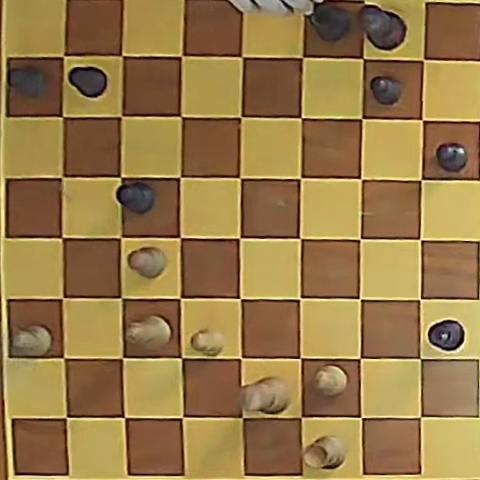black-king: (360, 5, 406, 49)
black-pawn: (8, 66, 47, 98), (69, 66, 107, 98), (117, 182, 154, 214), (436, 142, 468, 172), (370, 76, 402, 105)
black-rook: (309, 4, 353, 42), (427, 319, 465, 352)
white-bishop: (126, 315, 171, 349)
white-king: (240, 376, 291, 414)
white-pawn: (11, 325, 52, 356), (128, 247, 166, 278), (314, 364, 347, 395), (191, 328, 225, 356)
white-rook: (304, 435, 347, 469)
